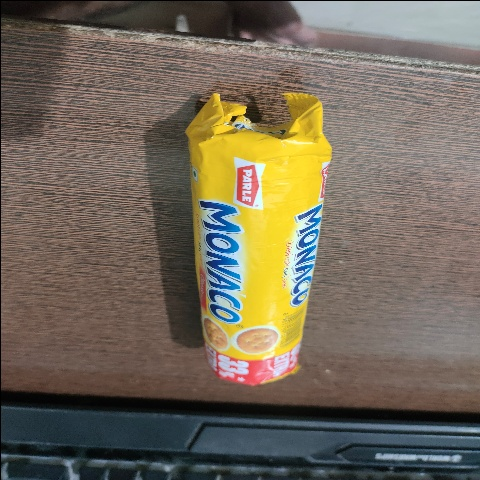monaco: (162, 74, 301, 330)
